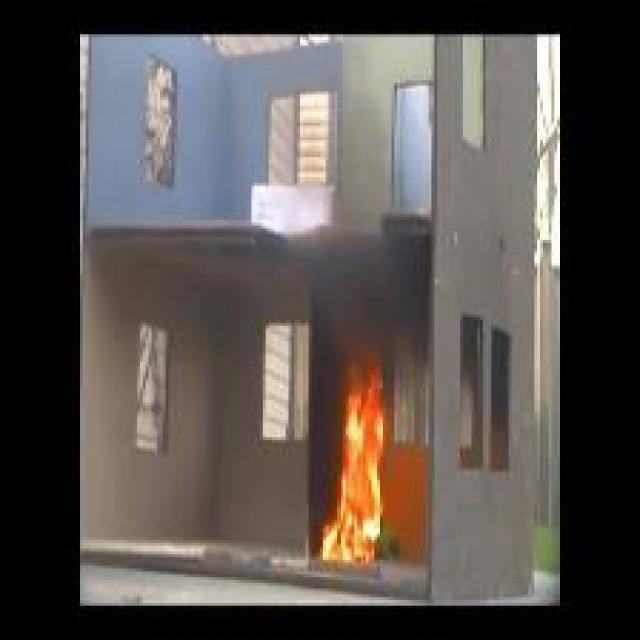Fire: (326, 347, 386, 564)
